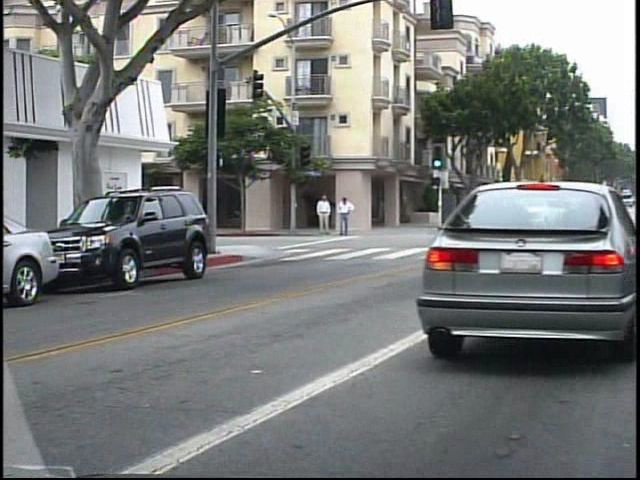person: (333, 193, 353, 239), (314, 192, 333, 238)
